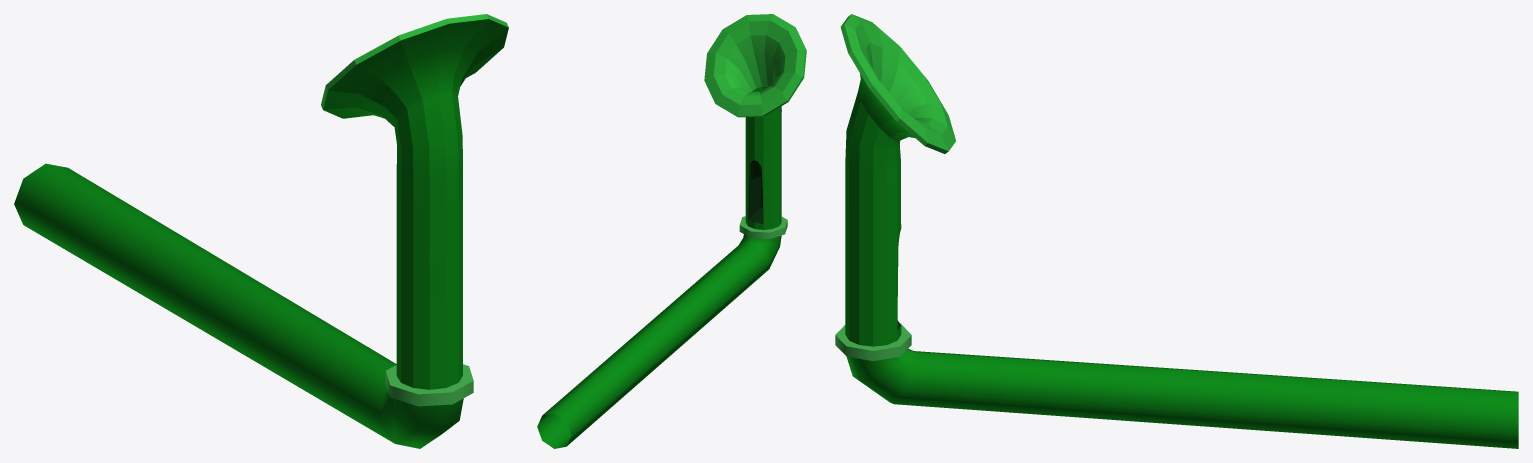
Rendered from ENV_Xylophone_Pipe_04.fbx.
3 renders of one model, left to right at view 1: azimuth 30°, elevation 25°; view 2: azimuth 150°, elevation 25°; view 3: azimuth 270°, elevation 25°, orthographic. The views are drawn at different scales.
Parts seen in each view (by area): view 1: ENV_Xylophone_Pipe_04; view 2: ENV_Xylophone_Pipe_04; view 3: ENV_Xylophone_Pipe_04.
Boxes of the visible parts, x1,y1,x2,y2 form: ENV_Xylophone_Pipe_04: [14, 14, 508, 448]; ENV_Xylophone_Pipe_04: [537, 14, 806, 448]; ENV_Xylophone_Pipe_04: [835, 14, 1518, 448].
Size of the model in its own units: 2198 by 6014 by 8792.
